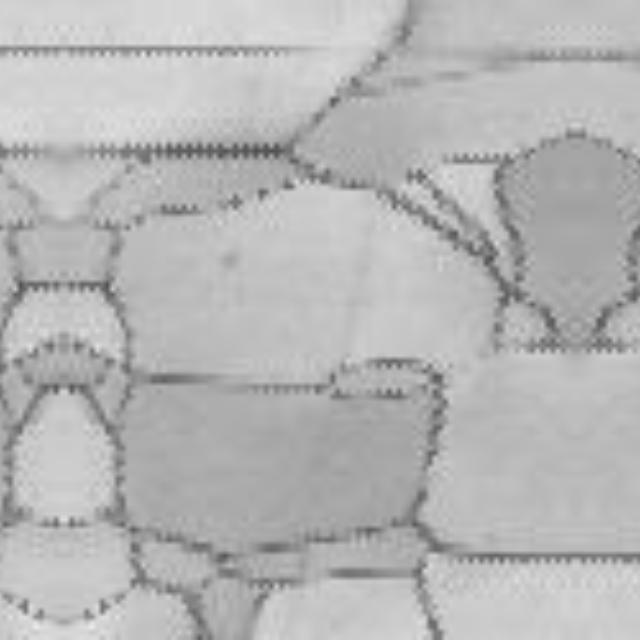good_void: (220, 250, 248, 269)
